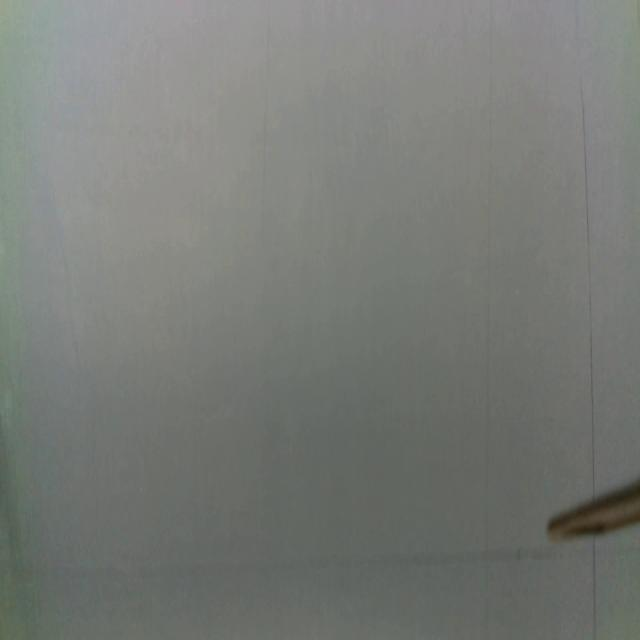color bleeding: (48, 542, 592, 582)
crease: (572, 0, 598, 498), (484, 5, 496, 639), (259, 0, 272, 230), (590, 536, 600, 640)
